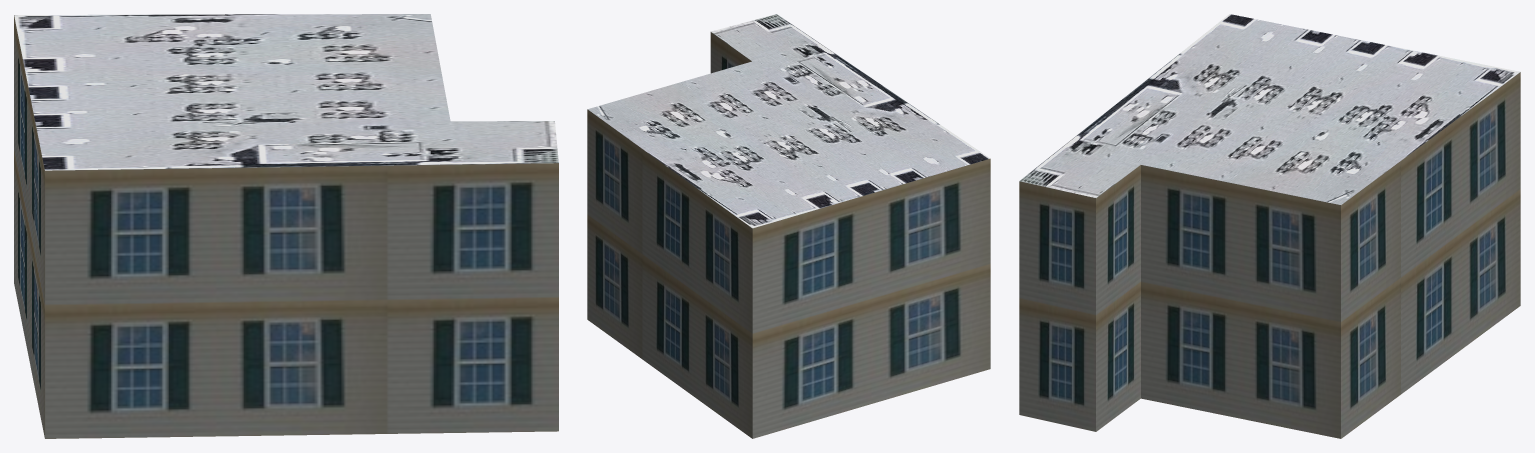
The model's file is ResTex__783.fbx.
3 renders of one model, left to right at view 1: azimuth 30°, elevation 25°; view 2: azimuth 150°, elevation 25°; view 3: azimuth 270°, elevation 25°, orthographic. The views are drawn at different scales.
Visible parts, largest first — view 1: CityEngineMaterial_7_m, CityEngineMaterial_4_m; view 2: CityEngineMaterial_7_m, CityEngineMaterial_4_m; view 3: CityEngineMaterial_7_m, CityEngineMaterial_4_m.
Part boxes in pixels (x1=…): CityEngineMaterial_7_m: x1=14, y1=15, x2=558, y2=438; CityEngineMaterial_4_m: x1=14, y1=14, x2=558, y2=170; CityEngineMaterial_7_m: x1=587, y1=32, x2=990, y2=438; CityEngineMaterial_4_m: x1=587, y1=14, x2=989, y2=228; CityEngineMaterial_7_m: x1=1019, y1=72, x2=1520, y2=438; CityEngineMaterial_4_m: x1=1019, y1=14, x2=1519, y2=204.
Size of the model in its own units: 10.52 by 6 by 11.67.
Materials: 2 (2 with a texture image).
